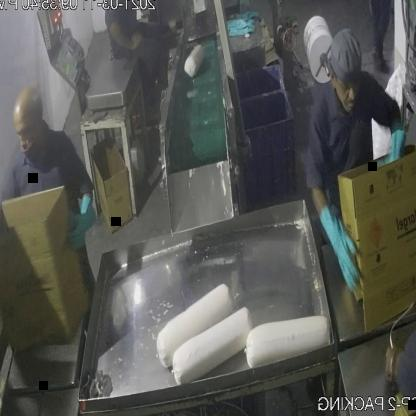glove: (318, 196, 366, 300), (64, 186, 100, 257)
no_glove: (104, 21, 144, 61)
